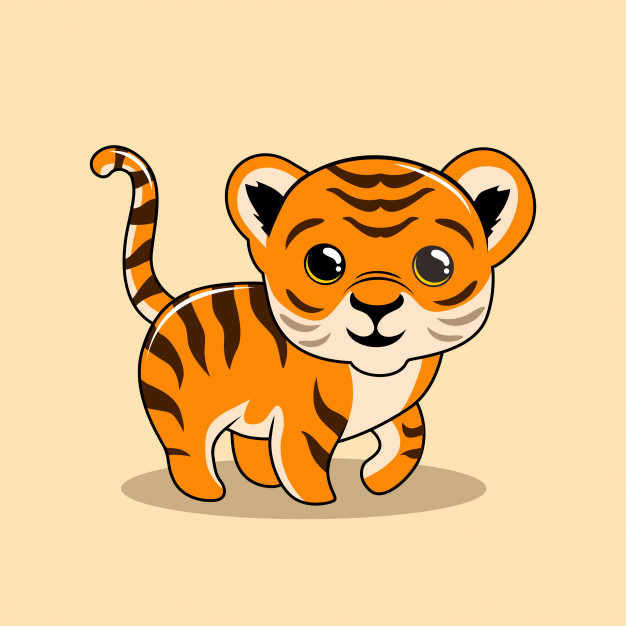Tigrew: (74, 131, 563, 530)
